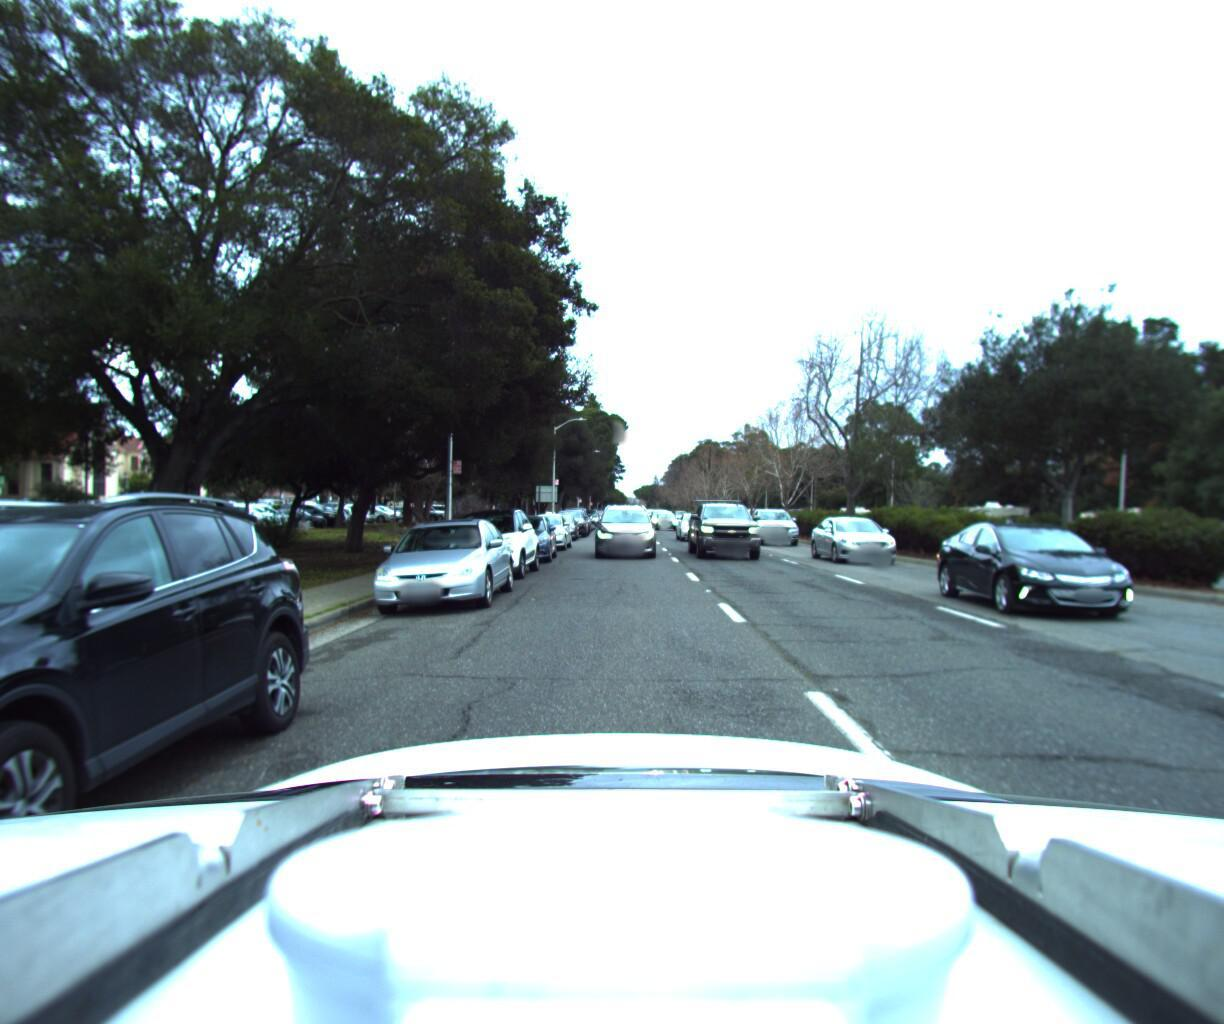car: (0, 445, 345, 1024), (935, 510, 1159, 618), (363, 506, 524, 619), (442, 498, 540, 581), (683, 487, 767, 555), (807, 509, 902, 561), (485, 505, 561, 557), (594, 492, 659, 552), (747, 500, 805, 539), (517, 505, 572, 544), (1172, 530, 1224, 570), (670, 505, 716, 536), (540, 505, 580, 534), (552, 500, 589, 530)
other_vehicle: (948, 490, 1035, 534)
